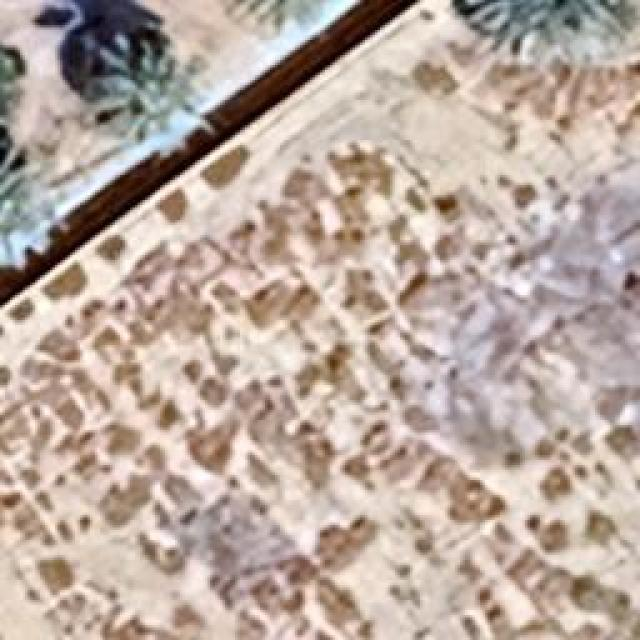PalmTree: (82, 45, 208, 160), (471, 0, 626, 62), (0, 140, 58, 270), (225, 0, 350, 38)
